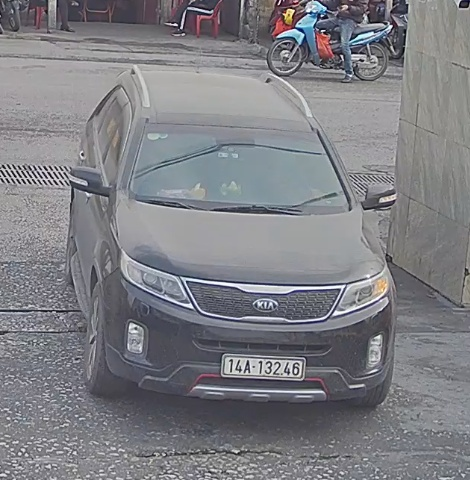vehicle plate: (213, 347, 312, 382)
